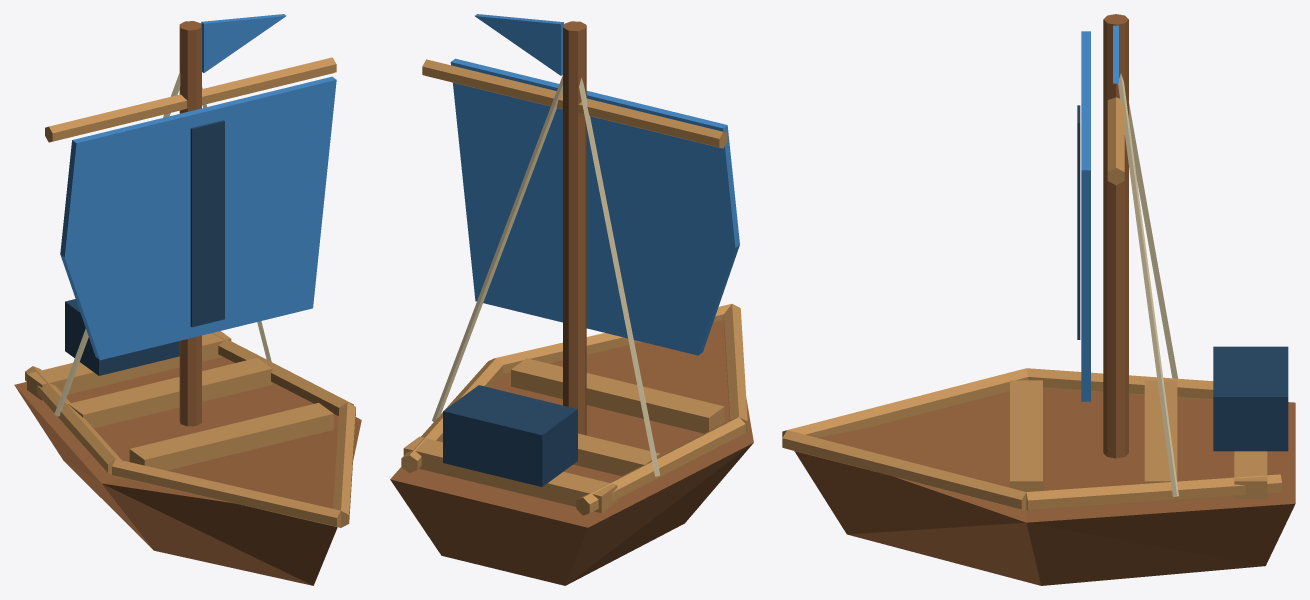
Rendered from u_boat.glb.
3 views of the same model, side by side, from view 1: azimuth 30°, elevation 25°; view 2: azimuth 150°, elevation 25°; view 3: azimuth 270°, elevation 25° (orthographic). The views are drawn at different scales.
Parts seen in each view (by area): view 1: u_boat; view 2: u_boat; view 3: u_boat.
Part boxes in pixels (<box>): u_boat: <box>14,14,361,585</box>; u_boat: <box>390,14,753,585</box>; u_boat: <box>782,14,1295,585</box>.
Bounding box in the file's own units: 0.24 × 0.39 × 0.3432.
